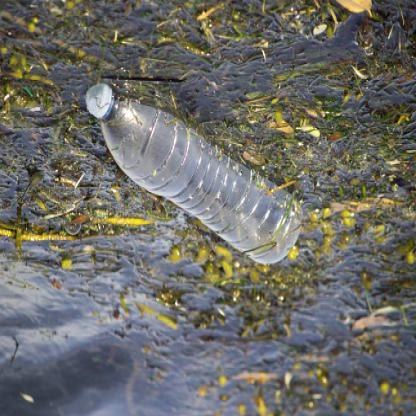Plastic: (83, 68, 305, 268)
